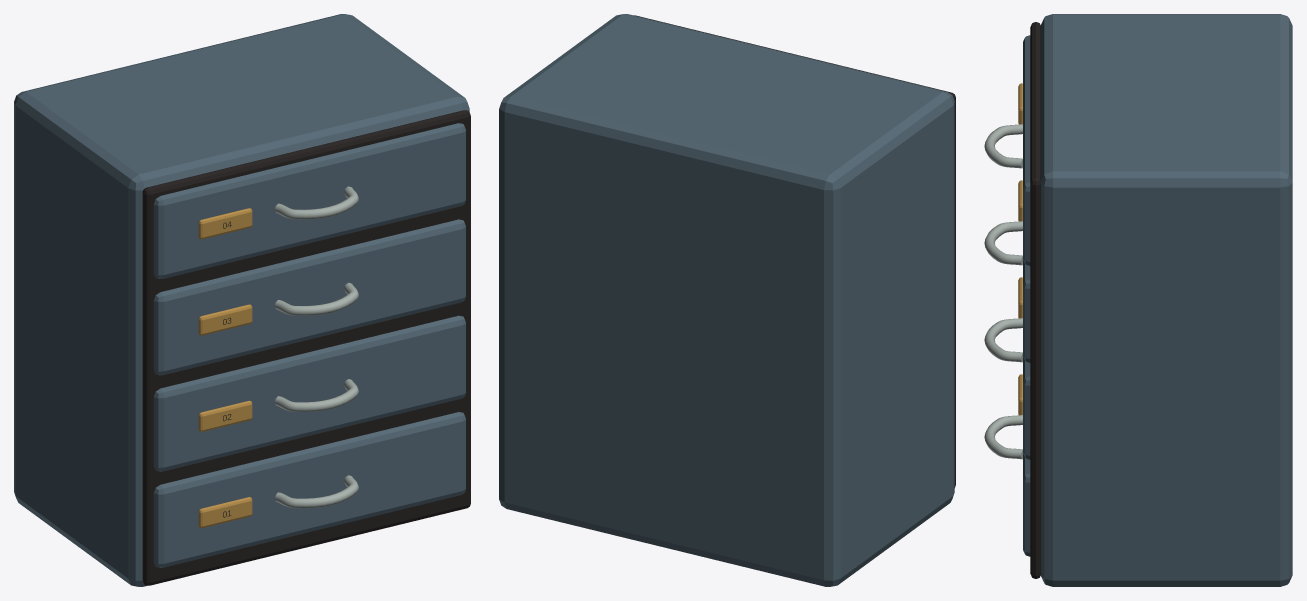
Rendered from ArchiveDrawerCabinet.fbx.
The picture shows the model from 3 angles, left to right: view 1: azimuth 30°, elevation 25°; view 2: azimuth 150°, elevation 25°; view 3: azimuth 270°, elevation 25°; orthographic projection.
Parts seen in each view (by area): view 1: Cabinet shell.001, Inset face.001, Drawer face.002, Drawer face, Drawer face.003, Drawer face.001, Card holder.001, Card holder.002, Card holder.003, Card holder, Drawer pull.003, Drawer pull (+2 smaller); view 2: Cabinet shell.001, Inset face.001; view 3: Cabinet shell.001, Inset face.001, Drawer face.003, Drawer pull.001, Drawer pull.002, Drawer pull, Drawer pull.003, Drawer face, Drawer face.001, Drawer face.002.
Boxes of the visible parts, x1,y1,x2,y2 form: Cabinet shell.001: [14, 14, 469, 586]; Inset face.001: [142, 110, 470, 585]; Drawer face.002: [153, 219, 465, 375]; Drawer face: [153, 412, 465, 567]; Drawer face.003: [153, 123, 465, 278]; Drawer face.001: [153, 315, 465, 471]; Card holder.001: [198, 400, 252, 431]; Card holder.002: [198, 304, 252, 335]; Card holder.003: [198, 208, 252, 239]; Card holder: [198, 497, 252, 527]; Drawer pull.003: [275, 186, 358, 219]; Drawer pull: [275, 475, 358, 508]; Cabinet shell.001: [499, 14, 954, 586]; Inset face.001: [634, 15, 955, 487]; Cabinet shell.001: [1040, 14, 1292, 586]; Inset face.001: [1030, 22, 1040, 578]; Drawer face.003: [1023, 35, 1030, 265]; Drawer pull.001: [984, 318, 1022, 362]; Drawer pull.002: [984, 221, 1022, 265]; Drawer pull: [984, 415, 1022, 459]; Drawer pull.003: [984, 124, 1022, 168]; Drawer face: [1023, 454, 1030, 556]; Drawer face.001: [1023, 357, 1030, 459]; Drawer face.002: [1023, 260, 1030, 362].
Size of the model in its own units: 0.677 by 0.784 by 0.5273.
